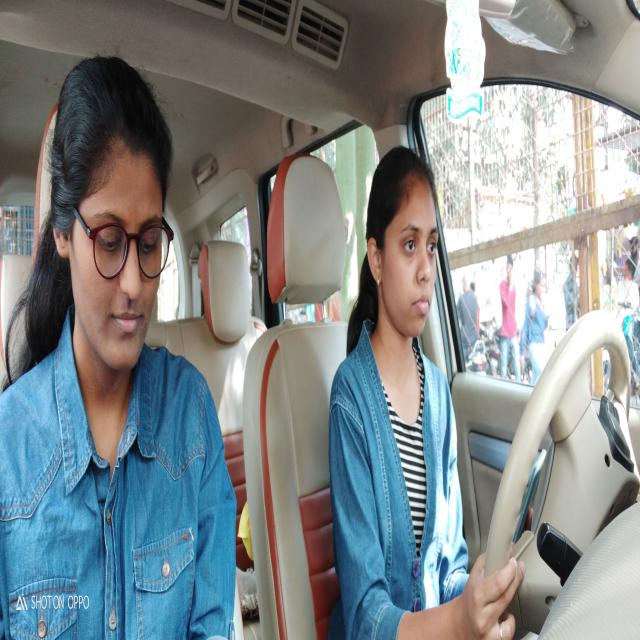person: (49, 54, 175, 403), (364, 144, 442, 374)
